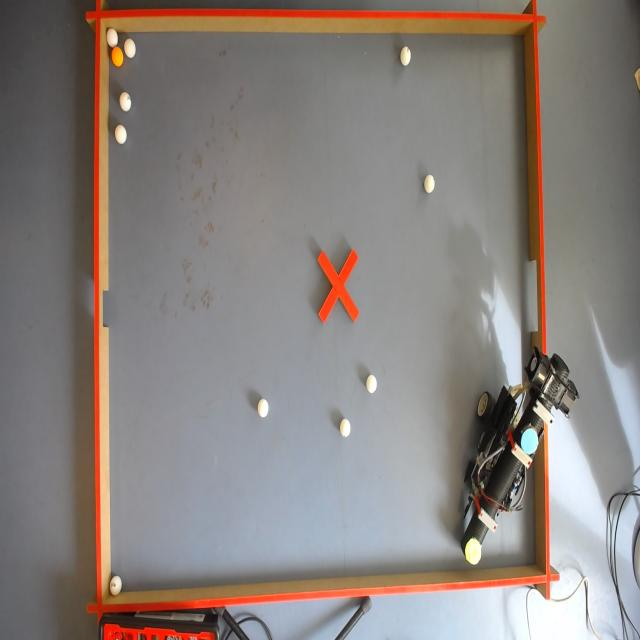orange: (112, 47, 127, 67)
robot: (460, 341, 568, 557)
robot-front: (465, 539, 481, 565)
robot-rear: (520, 428, 538, 455)
white: (122, 40, 136, 60), (400, 45, 413, 66), (110, 577, 124, 595), (340, 416, 352, 437), (258, 400, 272, 418), (115, 126, 128, 145), (120, 92, 132, 112), (423, 176, 436, 194), (367, 374, 378, 394), (106, 28, 117, 46)
